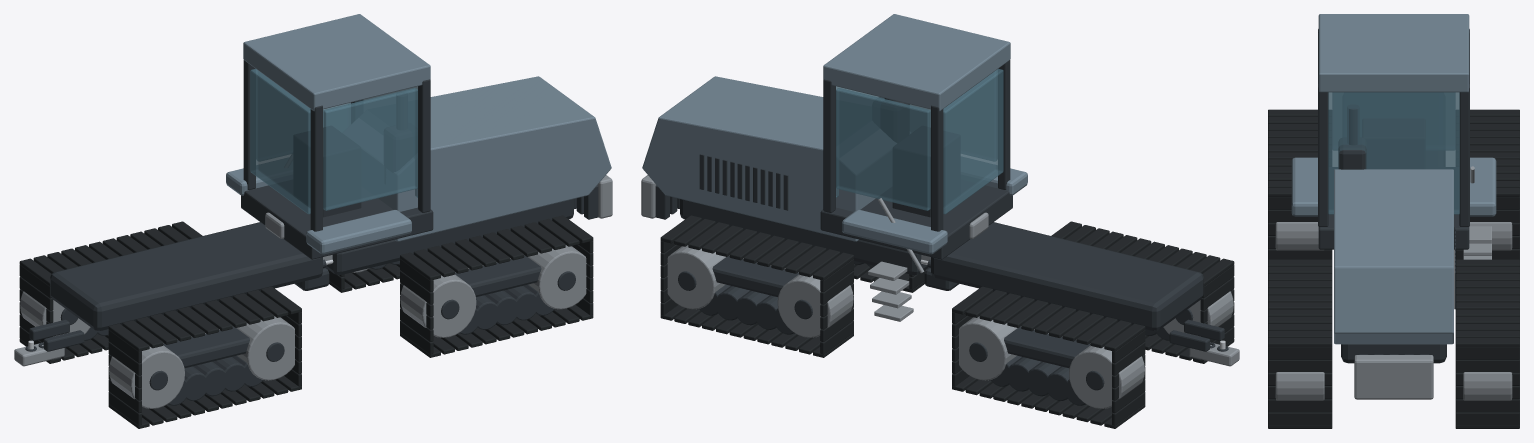
File: john-deere-9rx-640-structural-study.glb
The picture shows the model from 3 angles, left to right: view 1: azimuth 30°, elevation 25°; view 2: azimuth 150°, elevation 25°; view 3: azimuth 270°, elevation 25°; orthographic projection. The views are drawn at different scales.
Parts seen in each view (by area): view 1: JD14_Engine_Hood_Profile, Rear_Chassis_Box, Cab_Roof, Cab_R_Glass, Cab_Rear_Glass, Cab_Floor, Front_Main_Frame, Operator_Seat, Track_FR_Rear_Idler, Cab_Fender_R, Track_RR_Rear_Idler, Track_FR_Drive (+19 smaller); view 2: JD14_Engine_Hood_Profile, Rear_Chassis_Box, Cab_Roof, Cab_L_Glass, Cab_Rear_Glass, Cab_Floor, Operator_Seat, Front_Main_Frame, Track_FL_Rear_Idler, Track_RL_Rear_Idler, Cab_Fender_L, Track_FL_Drive (+19 smaller); view 3: JD14_Engine_Hood_Profile, Cab_Roof, Cab_Front_Glass, Front_Nose_End_Plate, Operator_Seat, Cab_Fender_R, Cab_Fender_L, Cab_L_Post_F, Cab_R_Post_F, Track_FL_Drive, Track_FR_Drive, Cab_Floor (+62 smaller).
Boxes of the visible parts, box(x1,y1,x2,y2) form: JD14_Engine_Hood_Profile: box(343, 76, 611, 241); Rear_Chassis_Box: box(50, 222, 322, 330); Cab_Roof: box(243, 14, 430, 111); Cab_R_Glass: box(323, 88, 417, 210); Cab_Rear_Glass: box(250, 68, 310, 214); Cab_Floor: box(241, 180, 433, 259); Front_Main_Frame: box(326, 199, 573, 275); Operator_Seat: box(294, 126, 361, 217); Track_FR_Rear_Idler: box(400, 274, 476, 337); Cab_Fender_R: box(306, 210, 411, 254); Track_RR_Rear_Idler: box(109, 345, 184, 408); Track_FR_Drive: box(524, 245, 586, 309); JD14_Engine_Hood_Profile: box(642, 76, 910, 241); Rear_Chassis_Box: box(931, 222, 1203, 330); Cab_Roof: box(823, 14, 1010, 111); Cab_L_Glass: box(836, 88, 930, 210); Cab_Rear_Glass: box(943, 68, 1003, 214); Cab_Floor: box(820, 180, 1012, 259); Operator_Seat: box(892, 126, 959, 217); Front_Main_Frame: box(680, 199, 927, 275); Track_FL_Rear_Idler: box(777, 274, 853, 337); Track_RL_Rear_Idler: box(1069, 345, 1144, 408); Cab_Fender_L: box(842, 210, 947, 254); Track_FL_Drive: box(667, 245, 729, 309); JD14_Engine_Hood_Profile: box(1334, 169, 1453, 344); Cab_Roof: box(1318, 14, 1469, 92); Cab_Front_Glass: box(1328, 92, 1459, 214); Front_Nose_End_Plate: box(1354, 355, 1433, 399); Operator_Seat: box(1363, 119, 1424, 168); Cab_Fender_R: box(1291, 157, 1317, 216); Cab_Fender_L: box(1470, 157, 1496, 216); Cab_L_Post_F: box(1459, 84, 1469, 226); Cab_R_Post_F: box(1318, 84, 1328, 226); Track_FL_Drive: box(1463, 372, 1512, 400); Track_FR_Drive: box(1275, 372, 1324, 400); Cab_Floor: box(1318, 167, 1469, 249).
Size of the model in its own units: 8.31 by 3.71 by 2.98.
